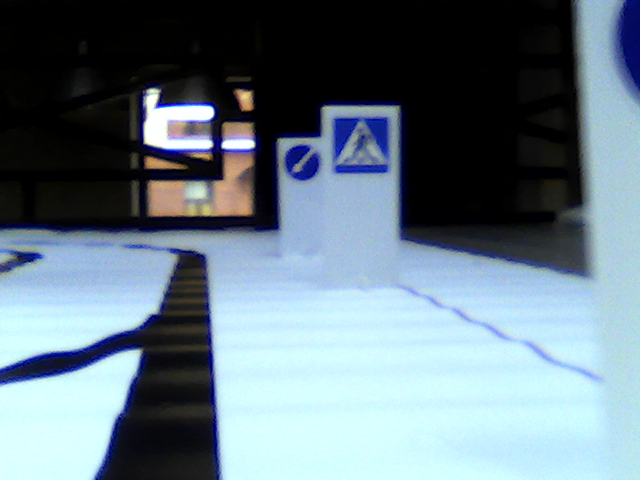pesh: (332, 115, 391, 175)
prep: (282, 144, 322, 180)
